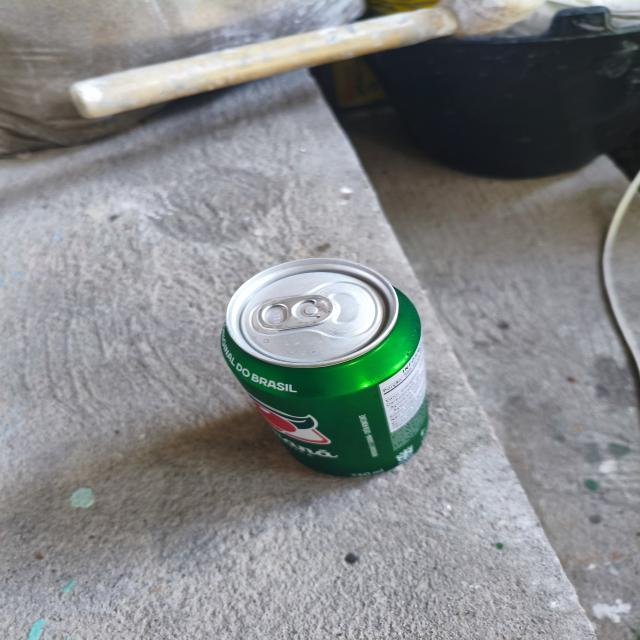Guarana: (212, 234, 458, 499)
